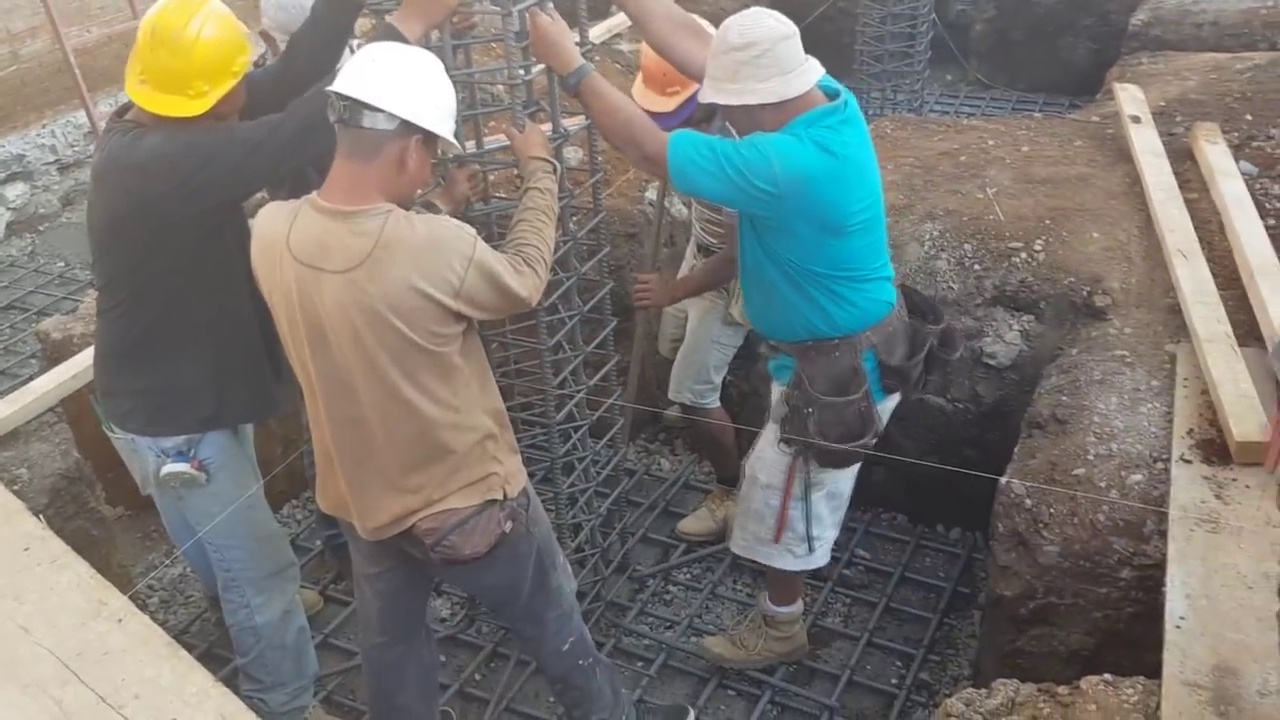helmet: (114, 2, 250, 122), (320, 41, 460, 149), (632, 50, 699, 116)
helmet-off: (681, 8, 842, 136)
helmet-on: (307, 35, 458, 226), (108, 5, 250, 144), (634, 47, 707, 132)
person: (245, 42, 651, 720), (87, 0, 454, 720), (529, 0, 901, 671), (627, 39, 765, 543)
